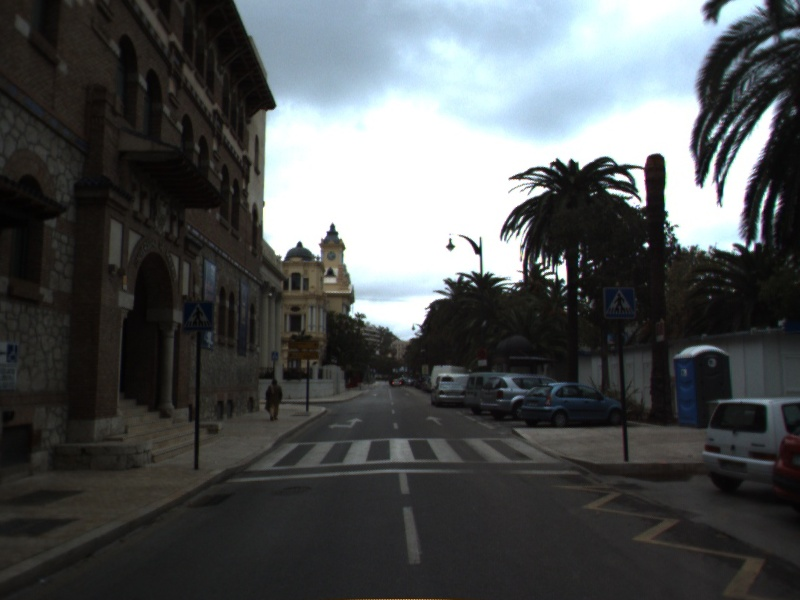STRAIGHT: (424, 413, 446, 427)
STRAIGHT_LEFT: (326, 416, 365, 431)
